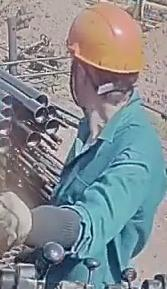gloves: (0, 190, 45, 259)
helmet: (65, 1, 145, 74)
vest: (51, 89, 166, 283)
